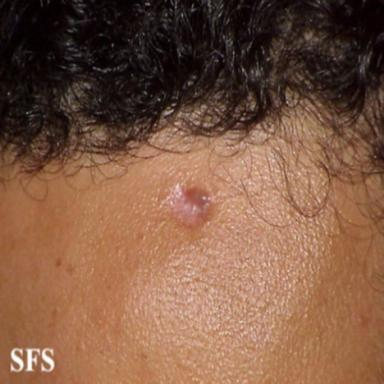basal-cell-carcinoma: (162, 184, 215, 229)
